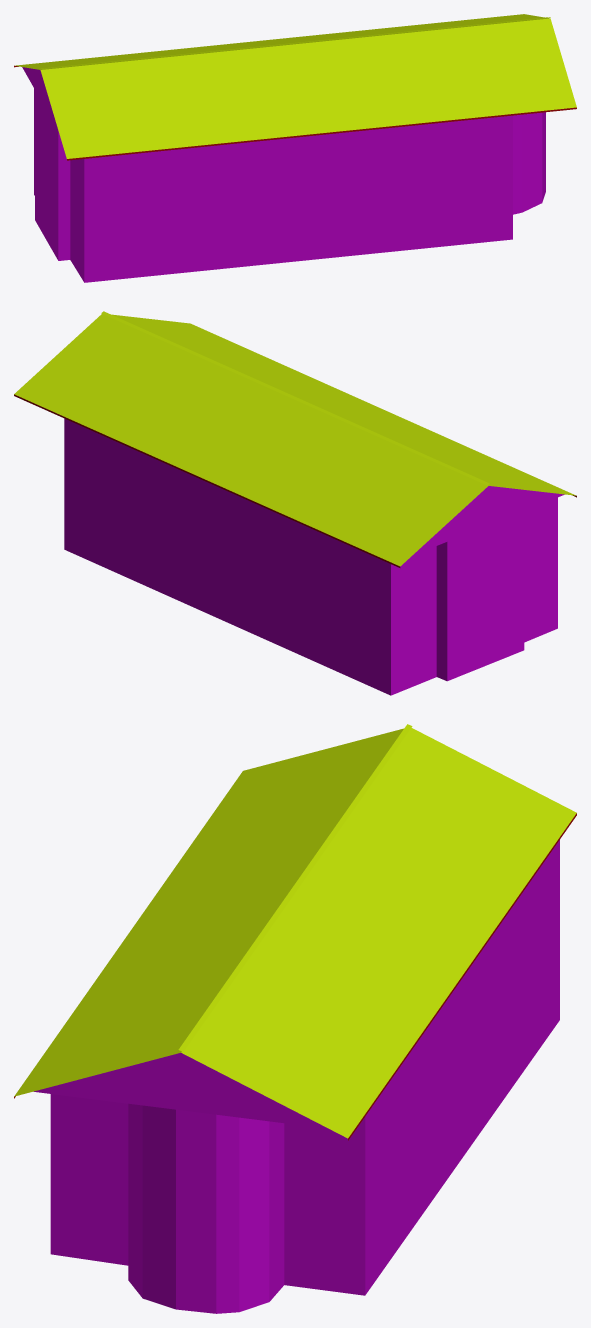
Rendered from sbl_25.glb.
3 views of the same model, one above another, from view 1: azimuth 30°, elevation 25°; view 2: azimuth 150°, elevation 25°; view 3: azimuth 270°, elevation 25° (orthographic). The views are drawn at different scales.
Parts seen in each view (by area): view 1: sbl_25; view 2: sbl_25; view 3: sbl_25.
Boxes of the visible parts, <box> form: sbl_25: <box>14,14,576,282</box>; sbl_25: <box>14,311,576,695</box>; sbl_25: <box>14,724,576,1313</box>.
Size of the model in its own units: 38.42 by 12.86 by 24.86.
